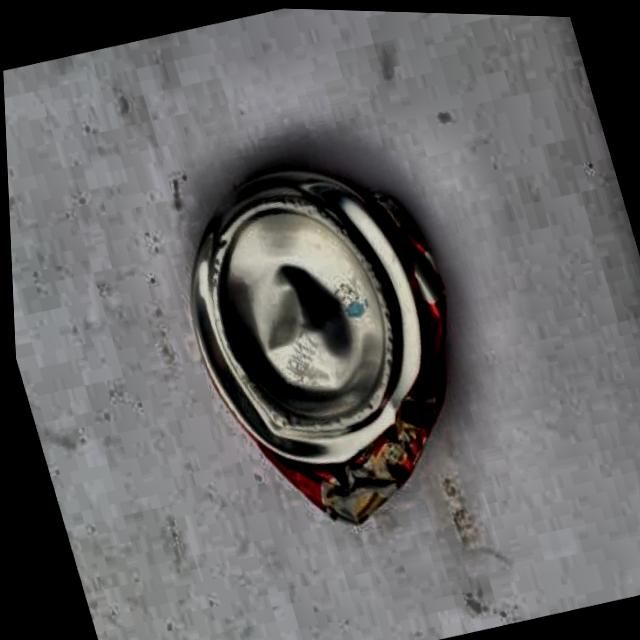Cans: (129, 116, 510, 569)
